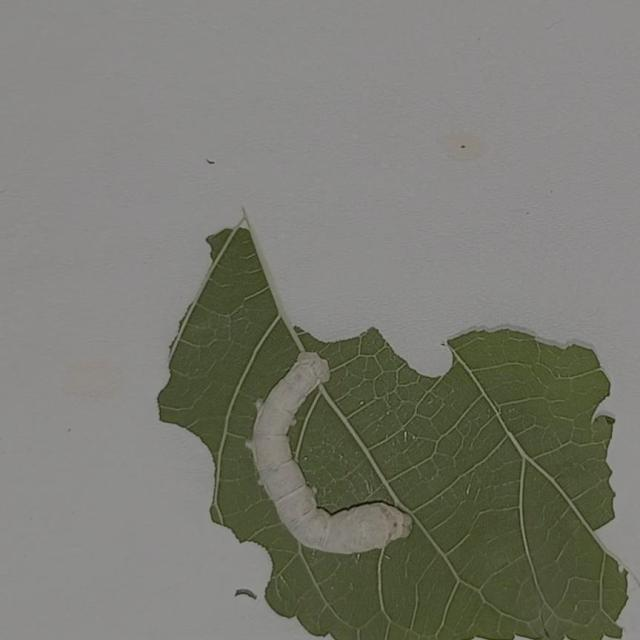Healthy: (234, 342, 426, 563)
